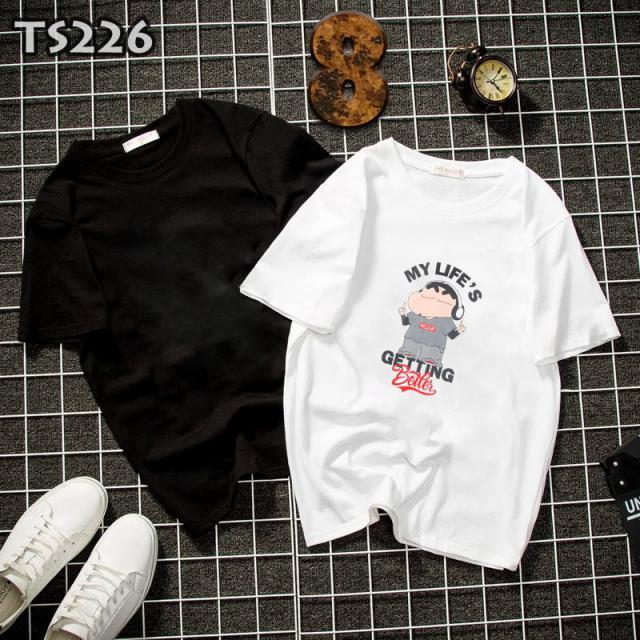Shirt: (238, 135, 625, 578), (25, 107, 341, 538)
